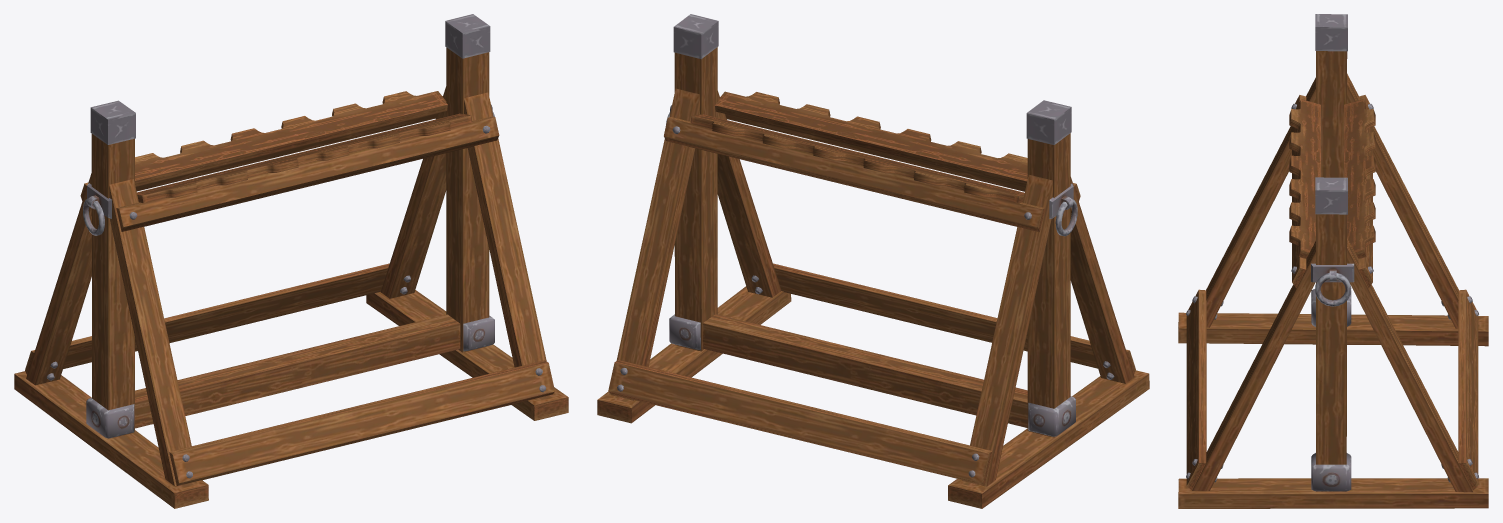
The model's file is WeaponStand.glb.
The picture shows the model from 3 angles, left to right: view 1: azimuth 30°, elevation 25°; view 2: azimuth 150°, elevation 25°; view 3: azimuth 270°, elevation 25°; orthographic projection. The views are drawn at different scales.
Visible parts, largest first — view 1: WeaponStand; view 2: WeaponStand; view 3: WeaponStand.
Part boxes in pixels (x1,y1,x2,y2): WeaponStand: (14,14,568,508); WeaponStand: (597,14,1149,508); WeaponStand: (1178,14,1488,508).
Bounding box in the file's own units: 1.39 × 1.11 × 0.9831.
2 materials, 2 textured.
